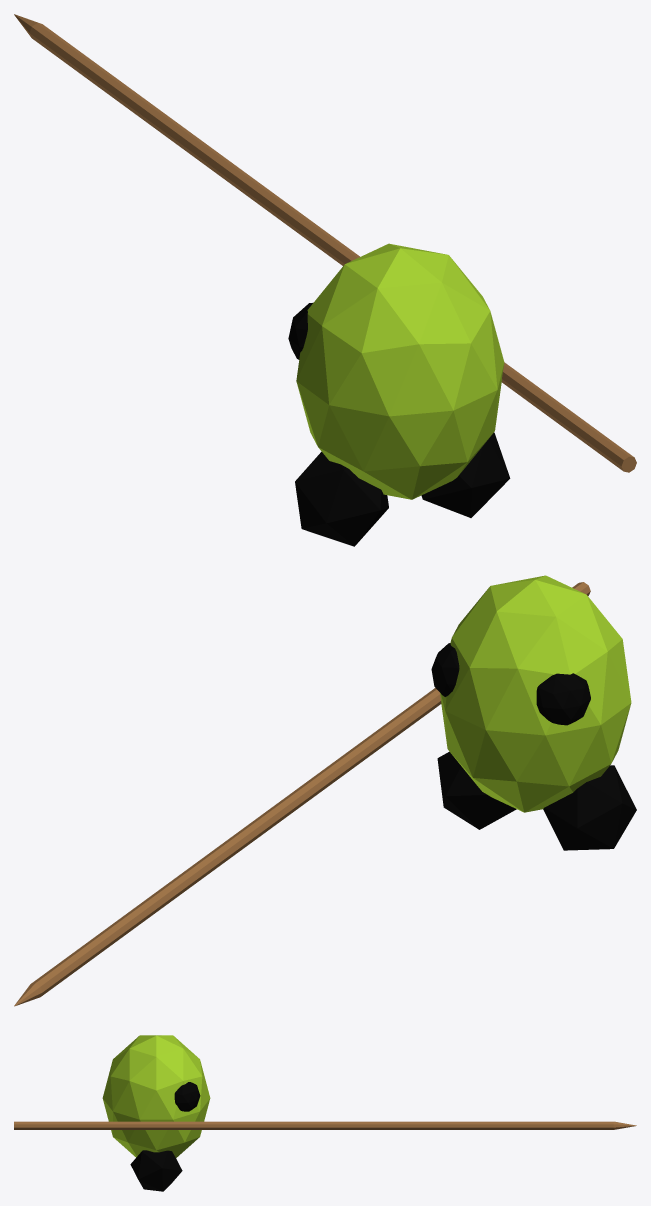
The model's file is stab.f0005.glb.
3 views of the same model, one above another, from view 1: azimuth 30°, elevation 25°; view 2: azimuth 150°, elevation 25°; view 3: azimuth 270°, elevation 25° (orthographic). The views are drawn at different scales.
Visible parts, largest first — view 1: Body.001; view 2: Body.001; view 3: Body.001.
Boxes of the visible parts, x1,y1,x2,y2 form: Body.001: (14, 14, 636, 546); Body.001: (14, 575, 636, 1006); Body.001: (14, 1035, 636, 1191).
Bounding box in the file's own units: 2.17 × 2.85 × 11.56.
Materials: 1 (1 with a texture image).
